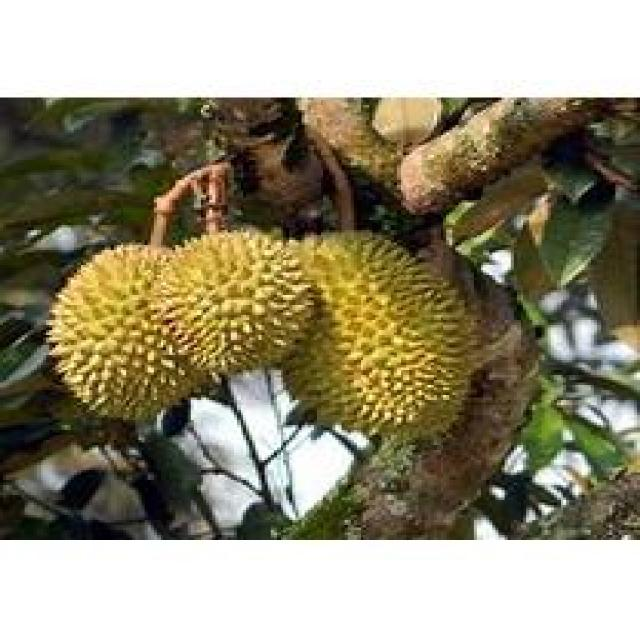fruit: (25, 198, 342, 460), (249, 202, 502, 470)
